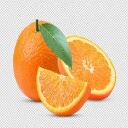orange: (12, 16, 73, 104), (57, 33, 116, 101), (35, 65, 91, 118)
